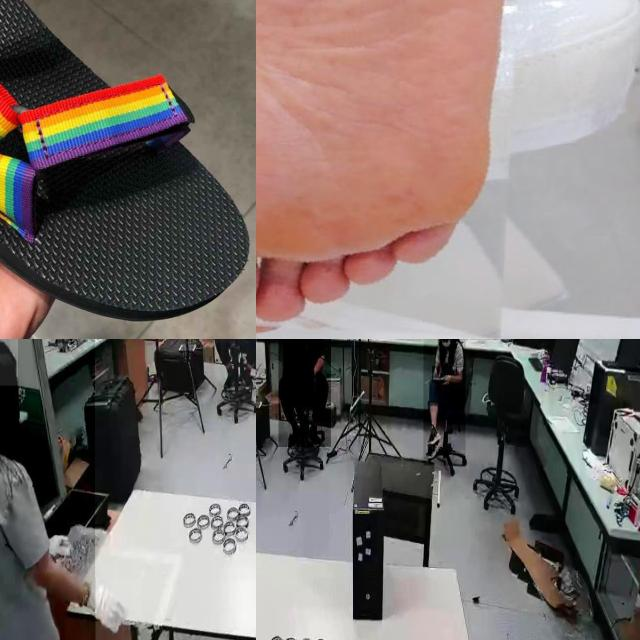Barefoots: (256, 0, 525, 339)
Sandals: (0, 0, 256, 333)
hand_glove: (82, 577, 141, 640)
hand_noglove: (440, 373, 450, 386), (432, 366, 440, 379)
head_nohelmet: (0, 339, 18, 386)
person: (0, 339, 95, 640), (278, 339, 331, 447), (423, 339, 466, 466), (214, 339, 256, 403)
shoes: (286, 421, 302, 447), (308, 426, 324, 452), (426, 422, 442, 448), (426, 438, 440, 466), (243, 365, 256, 394), (223, 367, 238, 392)
